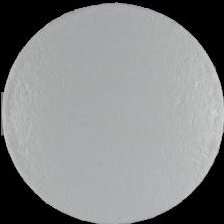68258-7048: (0, 0, 224, 224)
